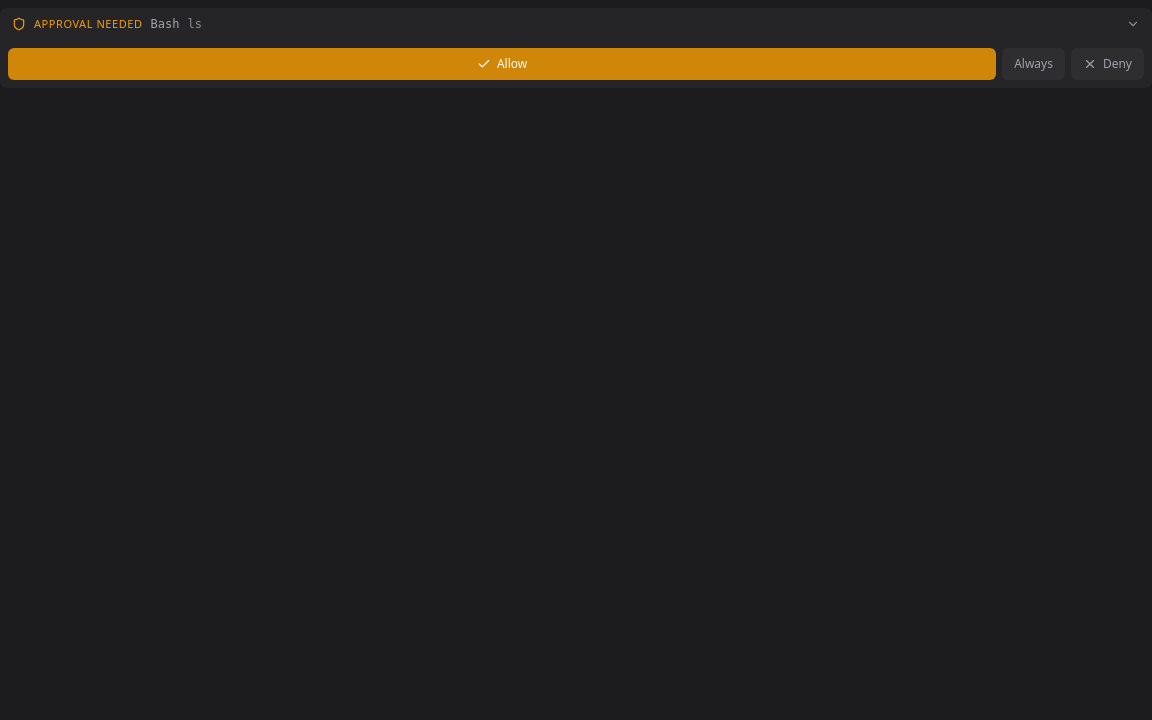
ApprovalCard (benign) › renders the args JSON as a key/value list once expanded
Click the button "Approval needed Bash ls" at (88,24), box [0,8,1151,40]
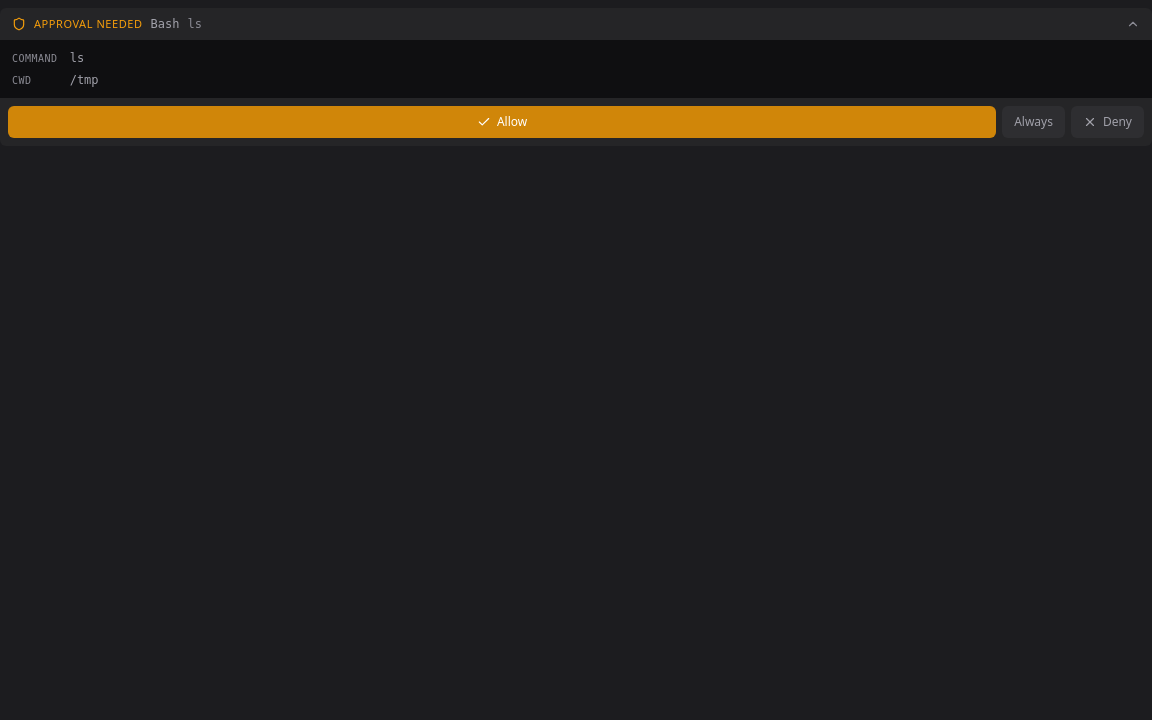
Expected: the text "command" is shown, [12,50,58,65]
Expected: the text "cwd" is shown, [12,75,32,86]
Expected: the text "/tmp" is shown, [70,73,99,87]
